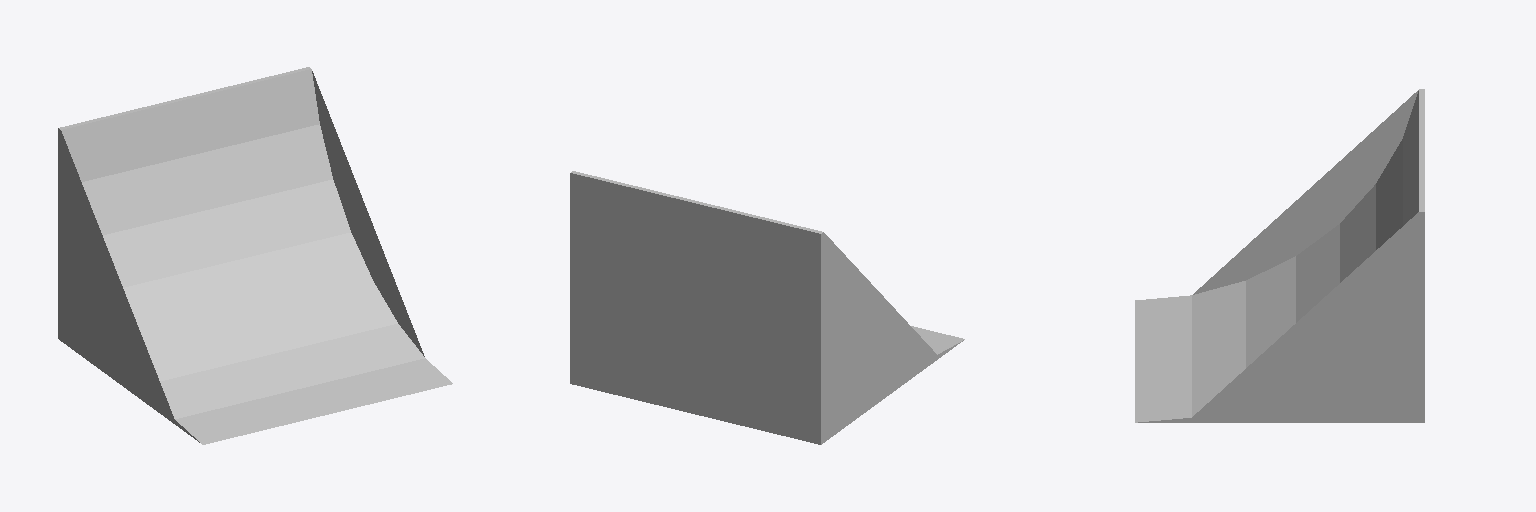
Rendered from half-pipe.obj.
3 renders of one model, left to right at view 1: azimuth 30°, elevation 25°; view 2: azimuth 150°, elevation 25°; view 3: azimuth 270°, elevation 25°, orthographic.
Parts seen in each view (by area): view 1: Circle; view 2: Circle; view 3: Circle.
Boxes of the visible parts, x1=… form: Circle: x1=58, y1=67, x2=452, y2=444; Circle: x1=570, y1=171, x2=964, y2=444; Circle: x1=1135, y1=89, x2=1424, y2=422.
Size of the model in its own units: 1 by 0.8049 by 1.